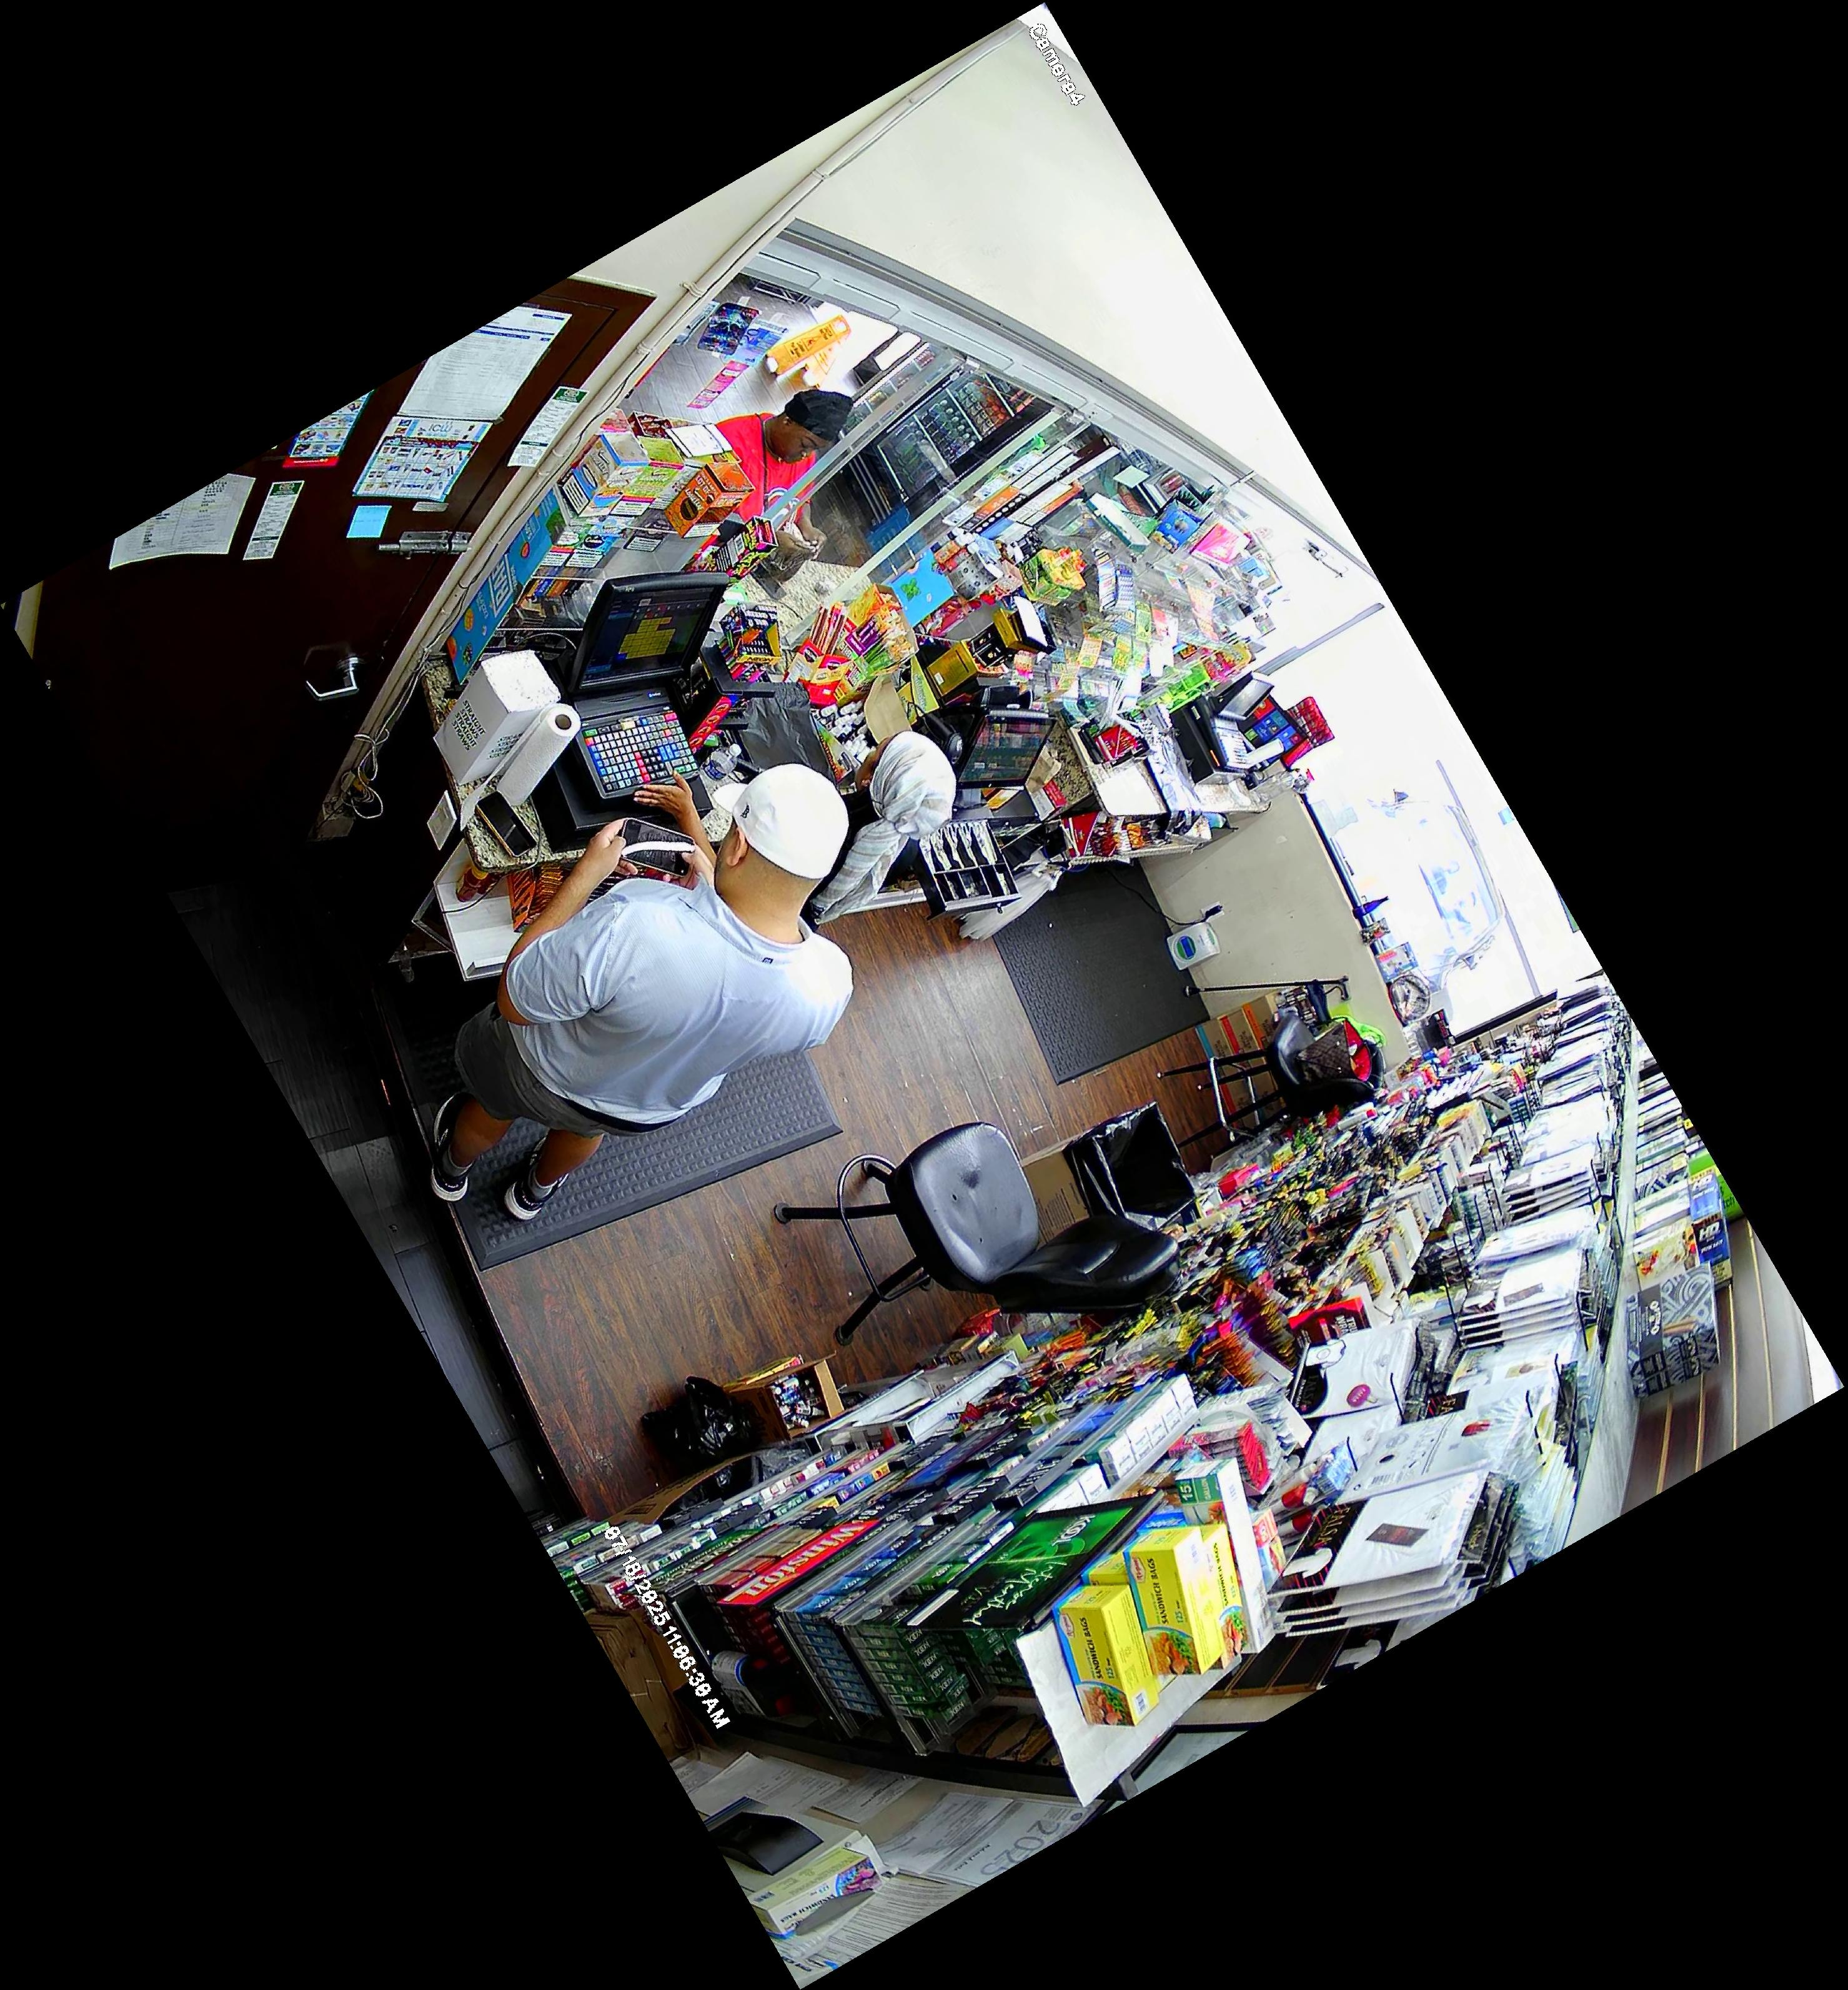phone: (604, 807, 710, 899)
